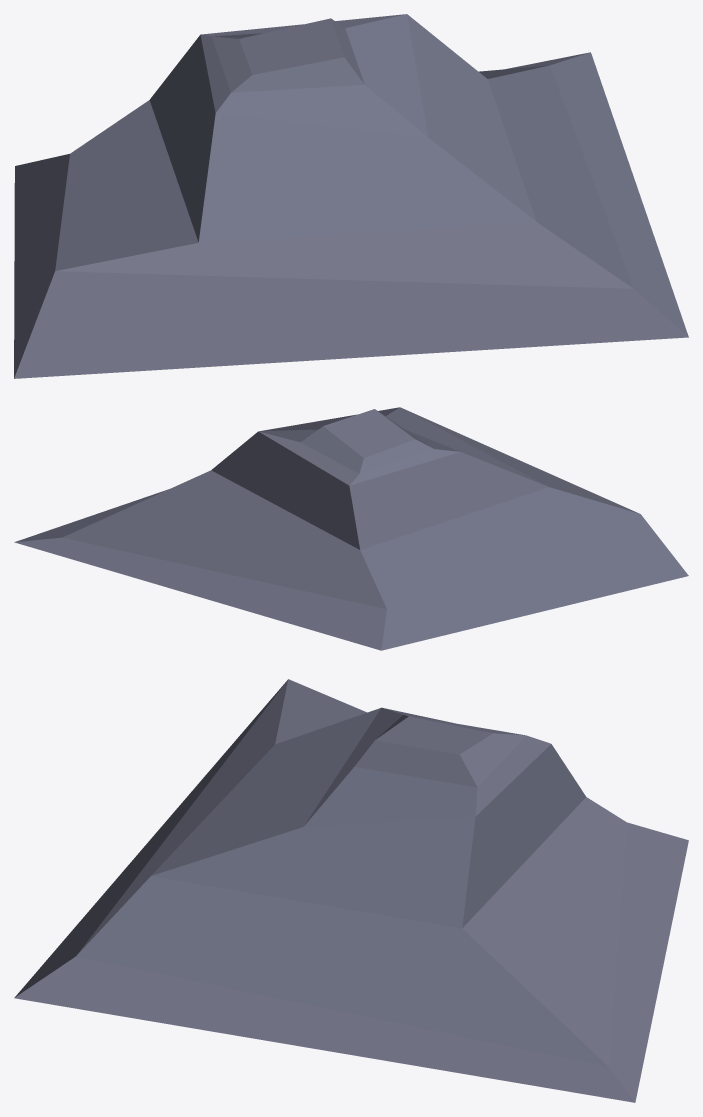
The model's file is Steen vierkant3.fbx.
3 renders of one model, top to bottom at view 1: azimuth 30°, elevation 25°; view 2: azimuth 150°, elevation 25°; view 3: azimuth 270°, elevation 25°, orthographic. The views are drawn at different scales.
Visible parts, largest first — view 1: Square steen2; view 2: Square steen2; view 3: Square steen2.
Boxes of the visible parts, box(x1,y1,x2,y2) form: Square steen2: box(14, 14, 688, 378); Square steen2: box(14, 407, 688, 650); Square steen2: box(14, 679, 688, 1102).
Bounding box in the file's own units: 197 × 45.36 × 153.
